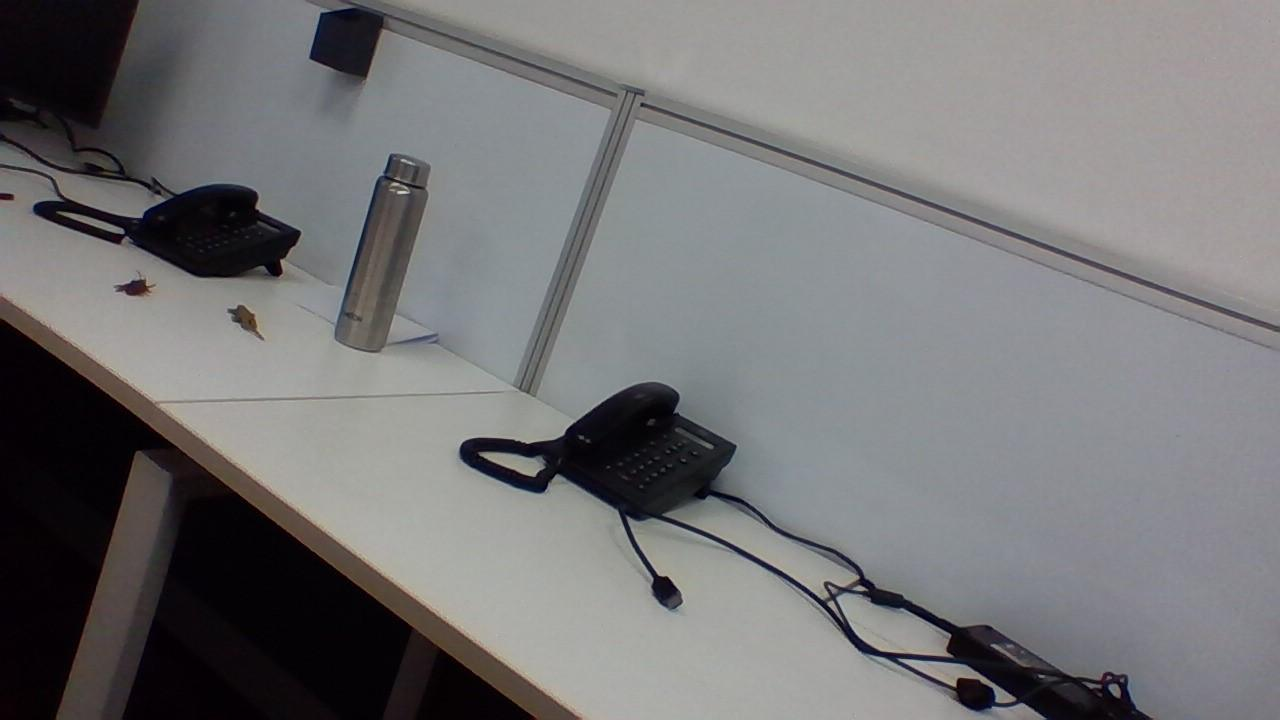cockroach: (100, 267, 165, 314)
lizard: (220, 290, 285, 350)
